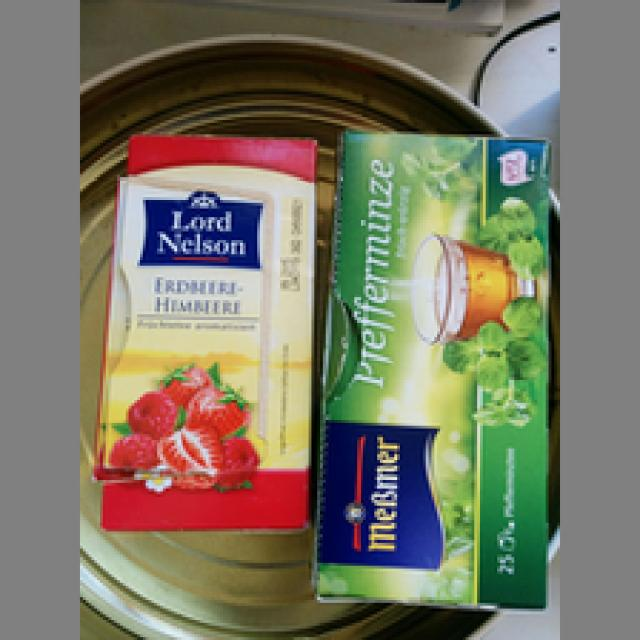groceries: (308, 126, 548, 608), (94, 129, 317, 540)
